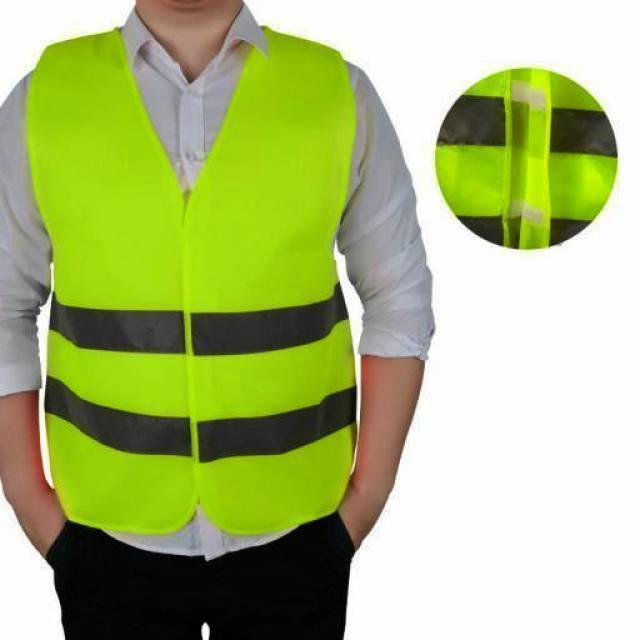vest: (32, 40, 362, 515)
